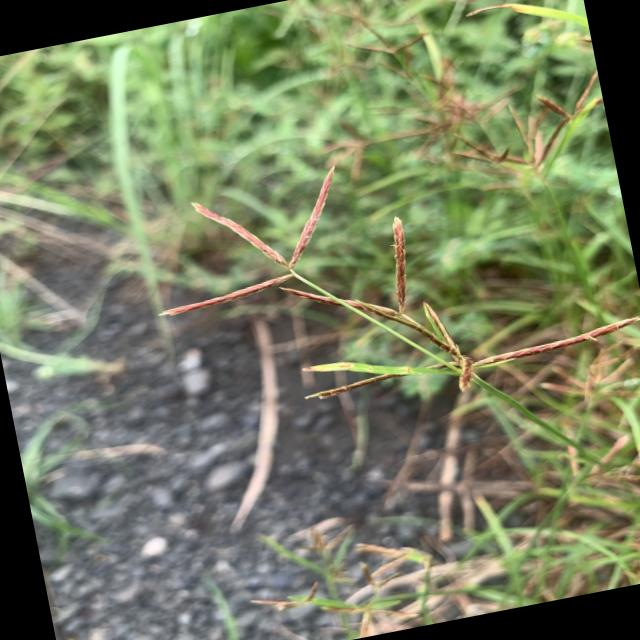cyperus: (137, 110, 640, 473), (319, 0, 616, 216)
